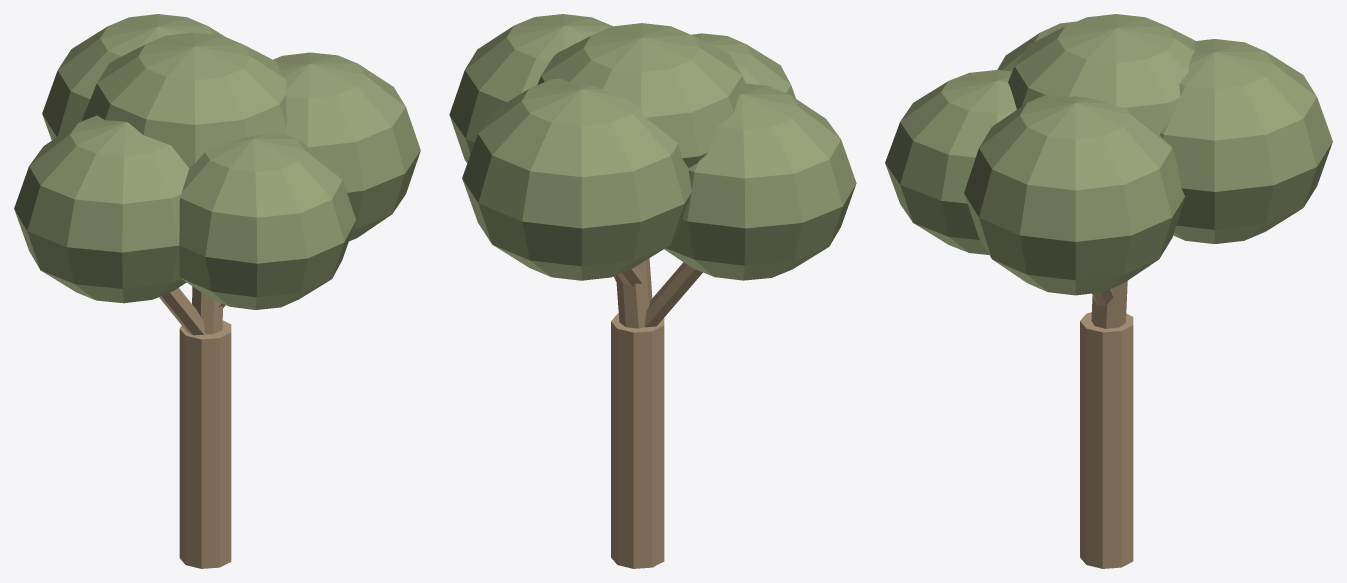
The model's file is street_tree.fbx.
The picture shows the model from 3 angles, left to right: view 1: azimuth 30°, elevation 25°; view 2: azimuth 150°, elevation 25°; view 3: azimuth 270°, elevation 25°; orthographic projection. The views are drawn at different scales.
Visible parts, largest first — view 1: street_tree; view 2: street_tree; view 3: street_tree.
Part boxes in pixels (left/top/right/bottom): street_tree: left=14, top=14, right=420, bottom=568; street_tree: left=449, top=14, right=856, bottom=568; street_tree: left=885, top=14, right=1332, bottom=568.
Size of the model in its own units: 3.07 by 4 by 3.09.
